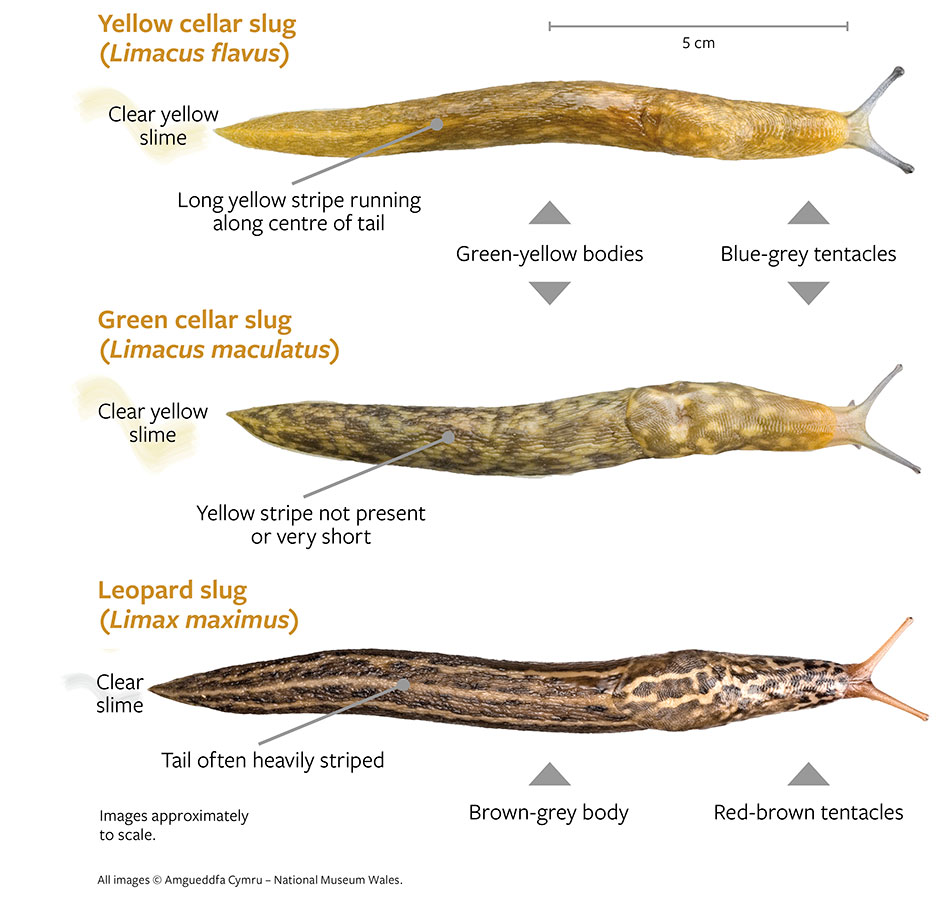slug: (215, 70, 920, 177), (163, 640, 924, 731), (221, 389, 919, 477)
